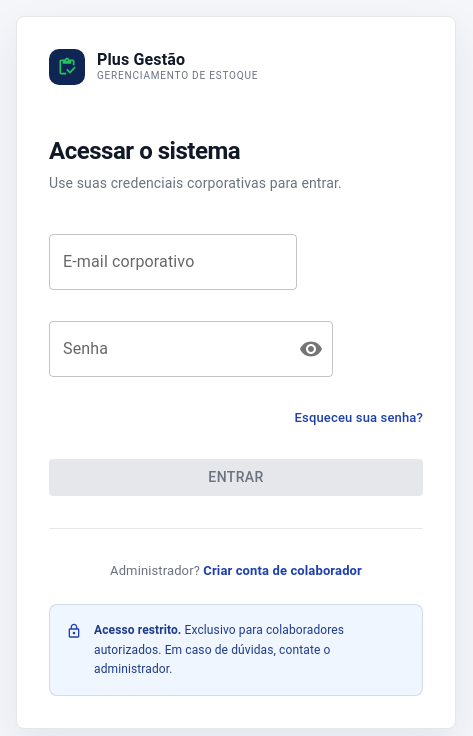
it: LoginPage › exibe erro de validação para senha vazia após blur
In the field labelled "E-mail corporativo": x=173, y=262 [49,234,297,290], type "admin@plus.com"
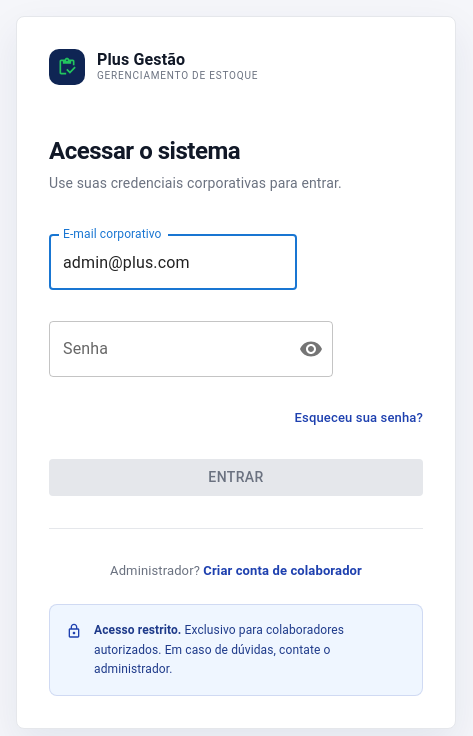
Click the password field labelled "Senha": x=166, y=349 [49,321,283,377]
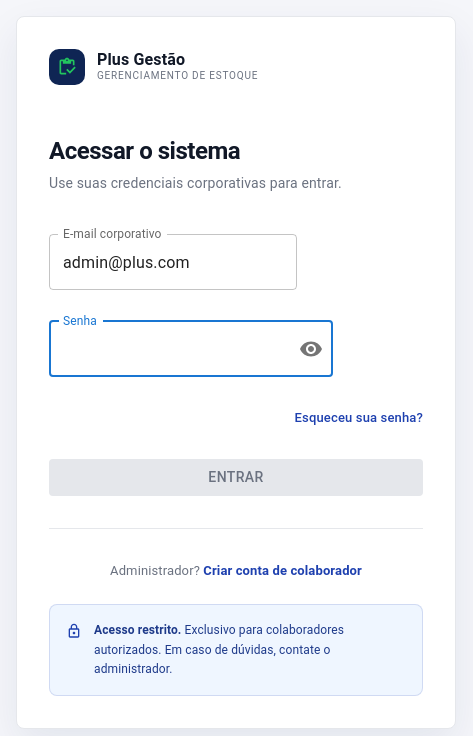
Press Tab
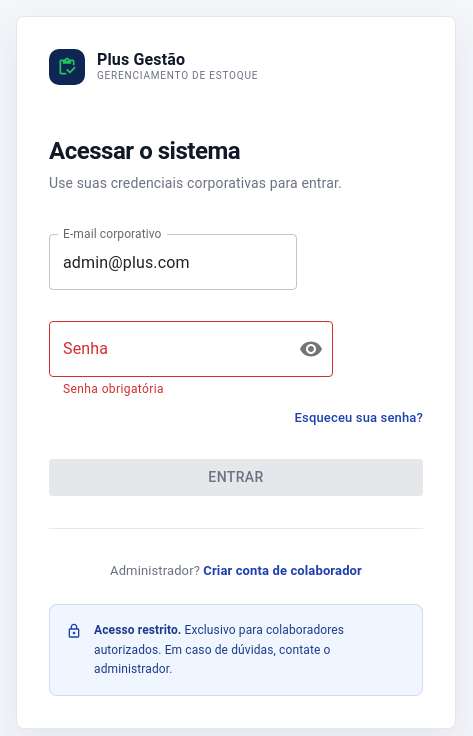
Check: the text "Senha obrigatória" is shown, box [63,382,164,396]
